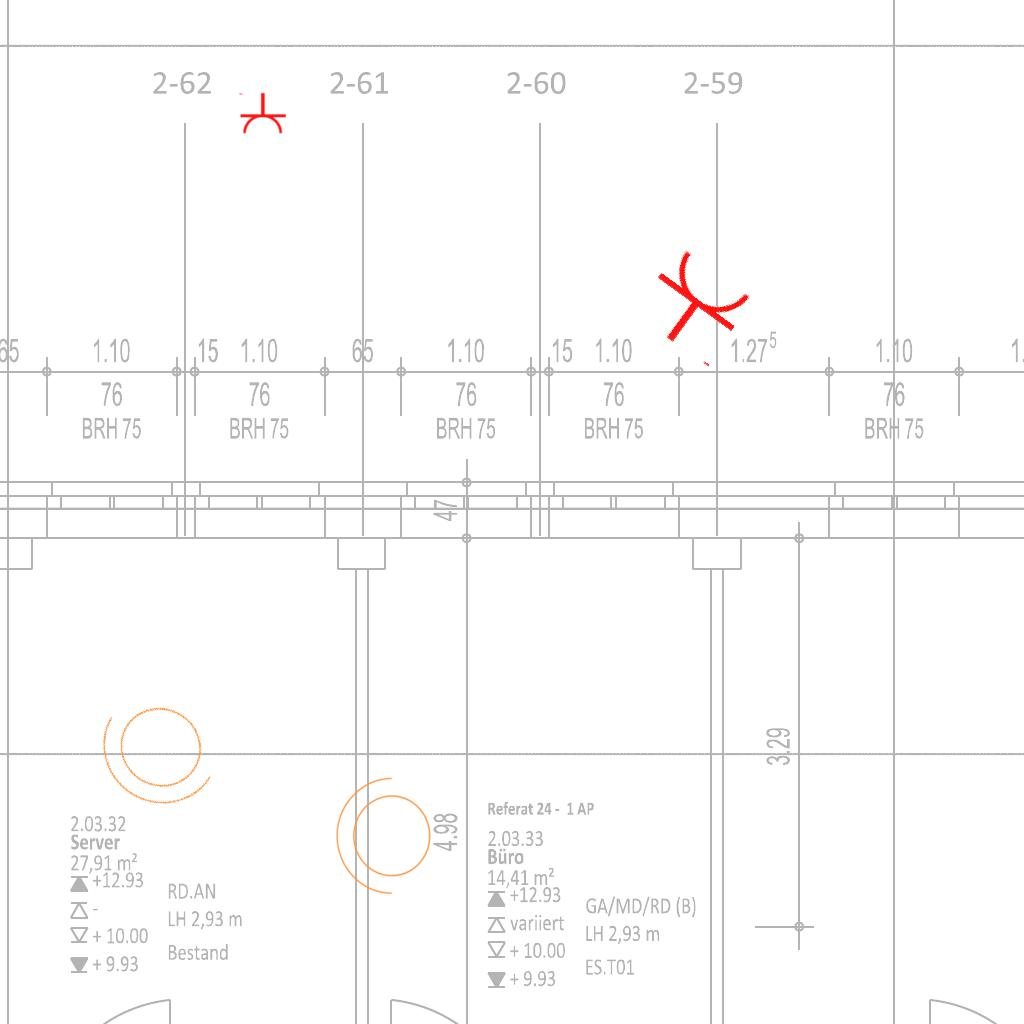Scheinwerfer_fuer_Alarmbeleuchtung: (75, 671, 247, 835), (331, 773, 443, 905)
Schukosteckdose_einfach: (629, 242, 762, 372), (237, 92, 287, 135)
